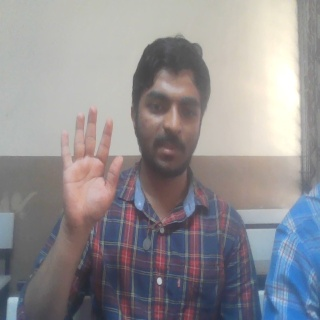Face: (129, 34, 210, 177)
Hello: (57, 104, 125, 233)
